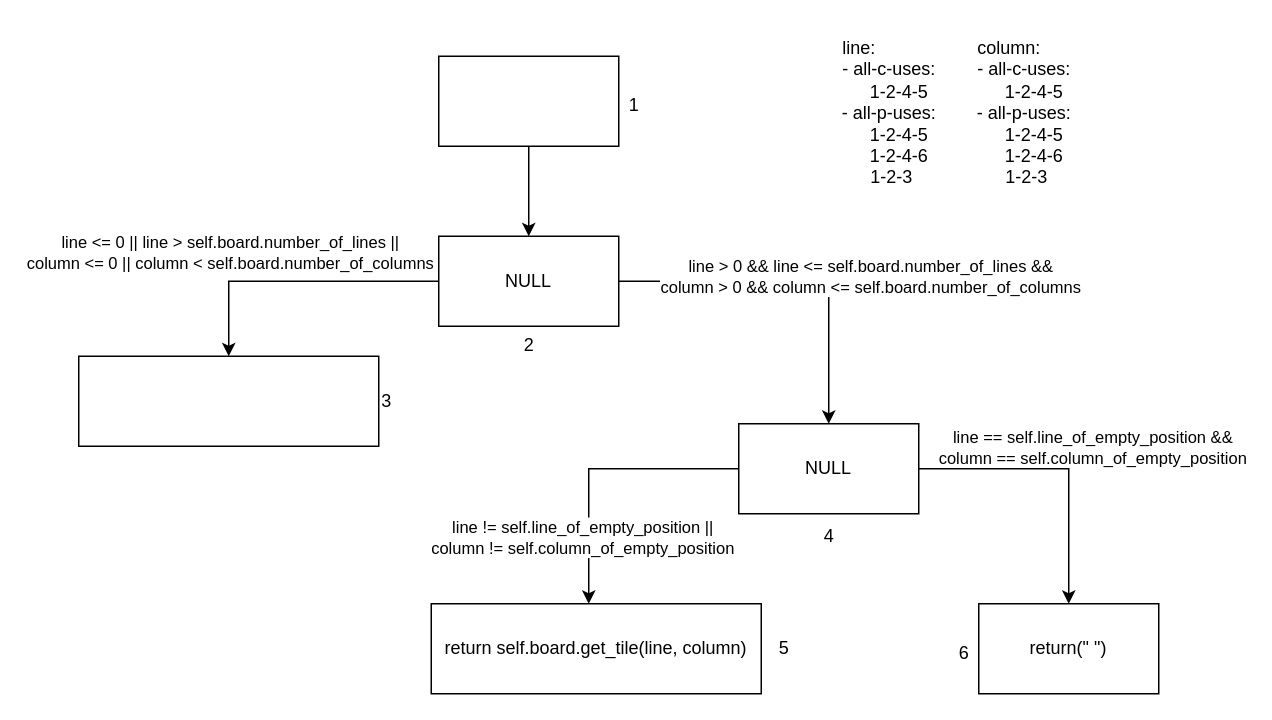
Some shapes in this 1272 by 720 pixel diagram are drawn without their labels. The shapes that lost their labels are listed below. From the top down, each one's box as (x1, y1, x2, y2) in pixels, then its label:
(437, 55, 619, 146): Initialize: line, colimn
(77, 355, 379, 446): raise InvalidPositionException()
